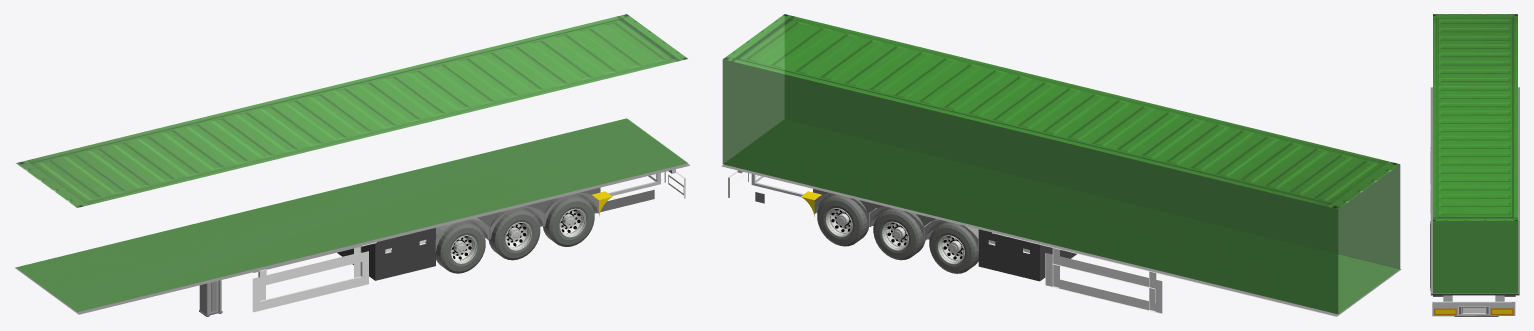
File: trailer_mb.glb
The picture shows the model from 3 angles, left to right: view 1: azimuth 30°, elevation 25°; view 2: azimuth 150°, elevation 25°; view 3: azimuth 270°, elevation 25°; orthographic projection. The views are drawn at different scales.
Parts seen in each view (by area): view 1: 平面.011, bodycar; view 2: 平面.011, bodycar; view 3: 平面.011, bodycar.
Boxes of the visible parts, box(x1,y1,x2,y2) form: 平面.011: box(16, 14, 687, 312); bodycar: box(15, 119, 689, 316); 平面.011: box(722, 14, 1400, 314); bodycar: box(721, 164, 1401, 316); 平面.011: box(1433, 14, 1518, 293); bodycar: box(1430, 87, 1519, 316).
Size of the model in its own units: 9.22 by 2.28 by 1.69.
4 materials, 4 textured.
